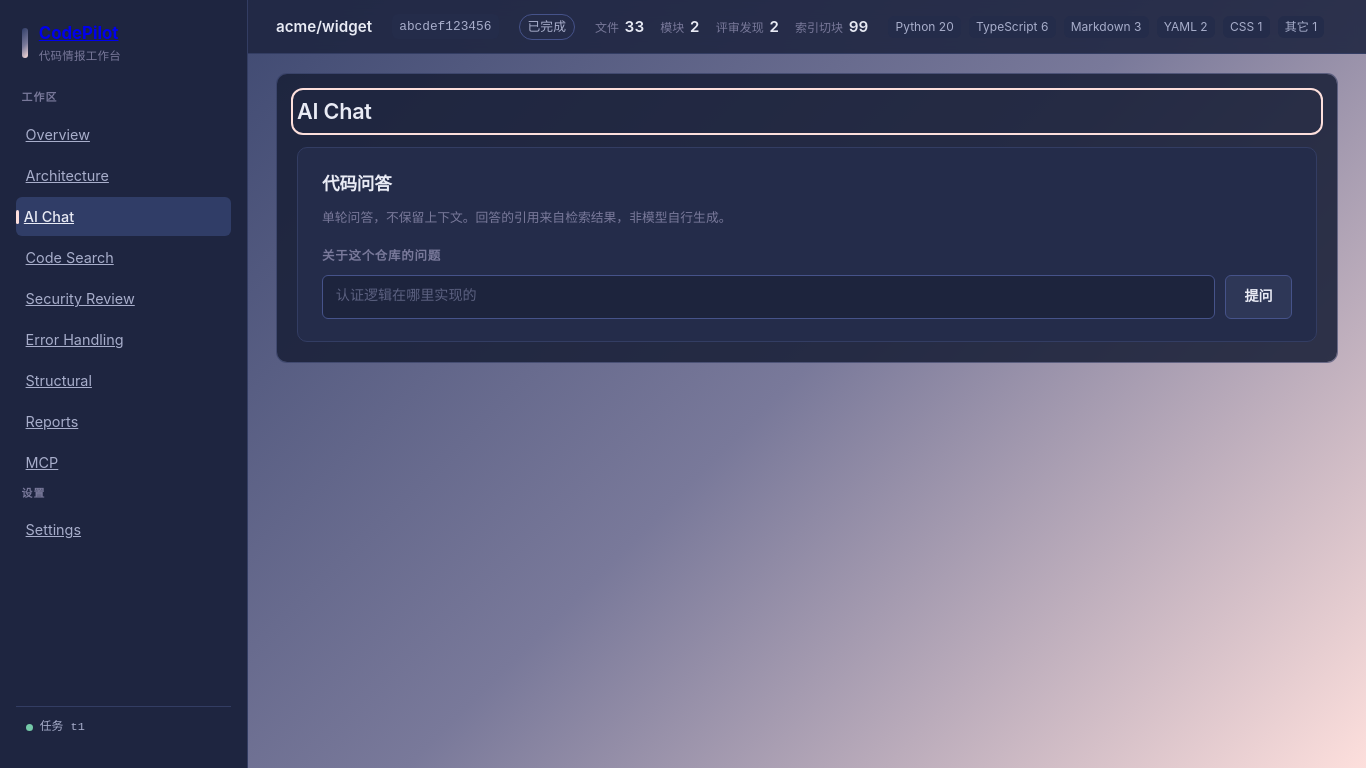
Test case: AI Chat（AE-20） › 未找到时不显示引用区
Expected: the heading "代码问答" is shown, [322,173,392,194]
Type "怎么部署" into the field labelled "关于这个仓库的问题" at (769, 297), box [322,275,1216,319]
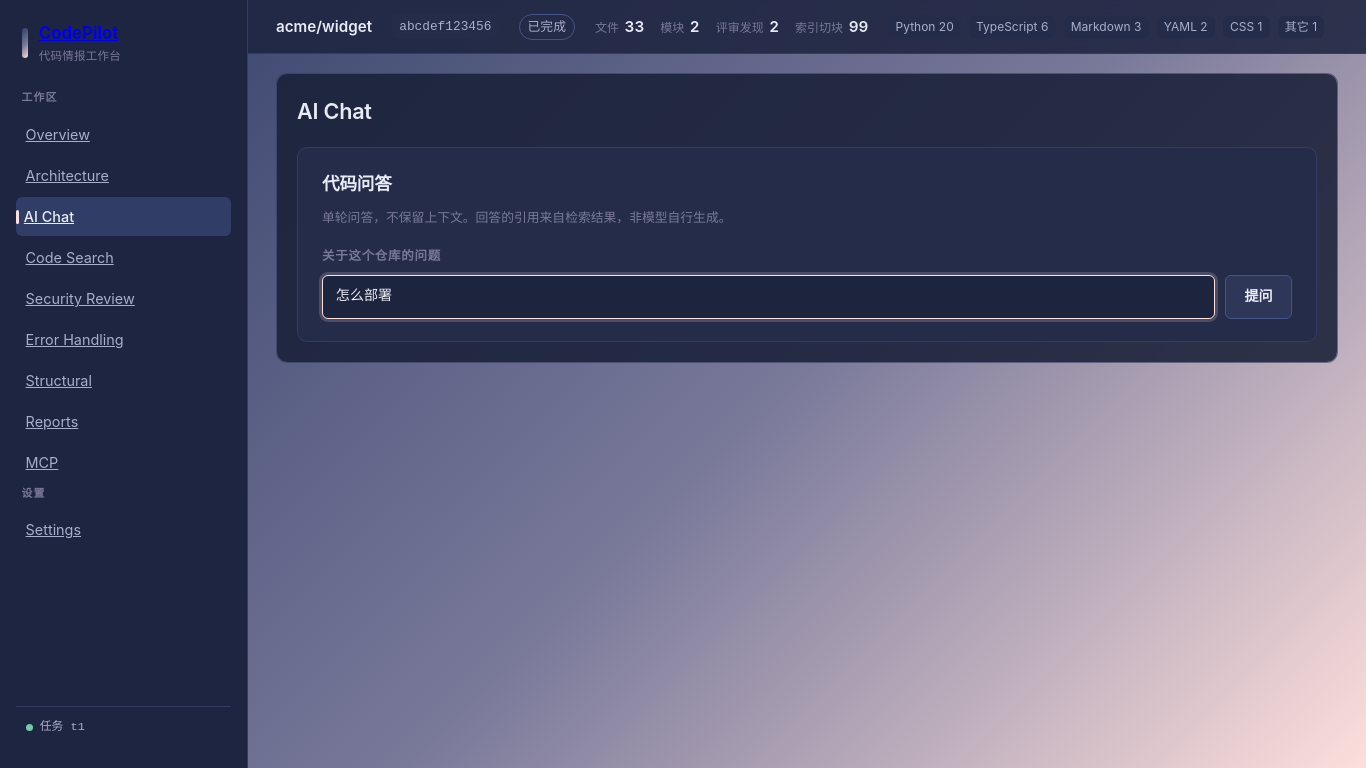
Click the button "提问" at (1258, 297), box [1225,275,1292,319]
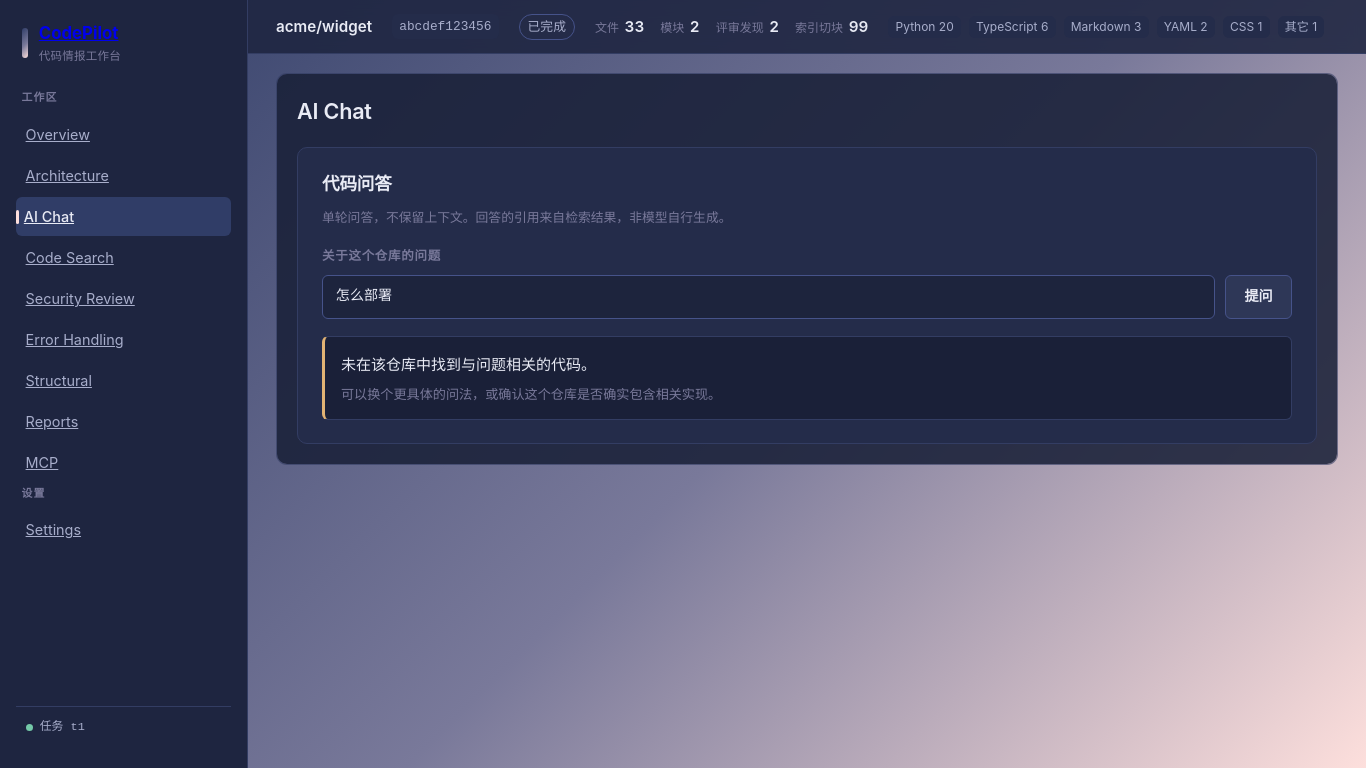
Expected: the text "未在该仓库中找到与问题相关的代码。" is shown, [341,355,596,374]
